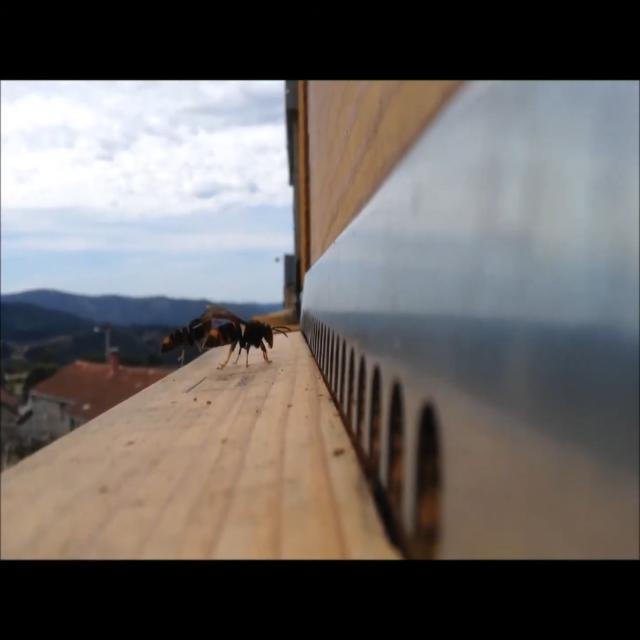Hornets: (203, 301, 291, 370), (160, 310, 221, 368)
